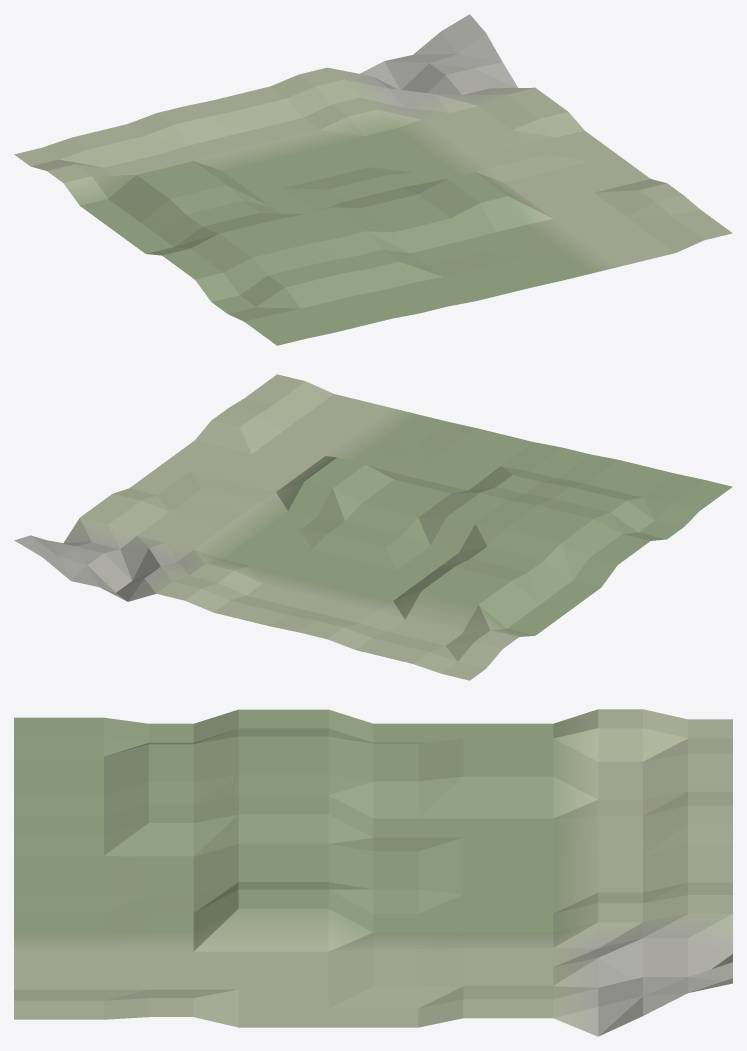
The picture shows the model from 3 angles, top to bottom: view 1: azimuth 30°, elevation 25°; view 2: azimuth 150°, elevation 25°; view 3: azimuth 270°, elevation 25°; orthographic projection. The views are drawn at different scales.
Bounding box in the file's own units: 32 × 2.93 × 32.
